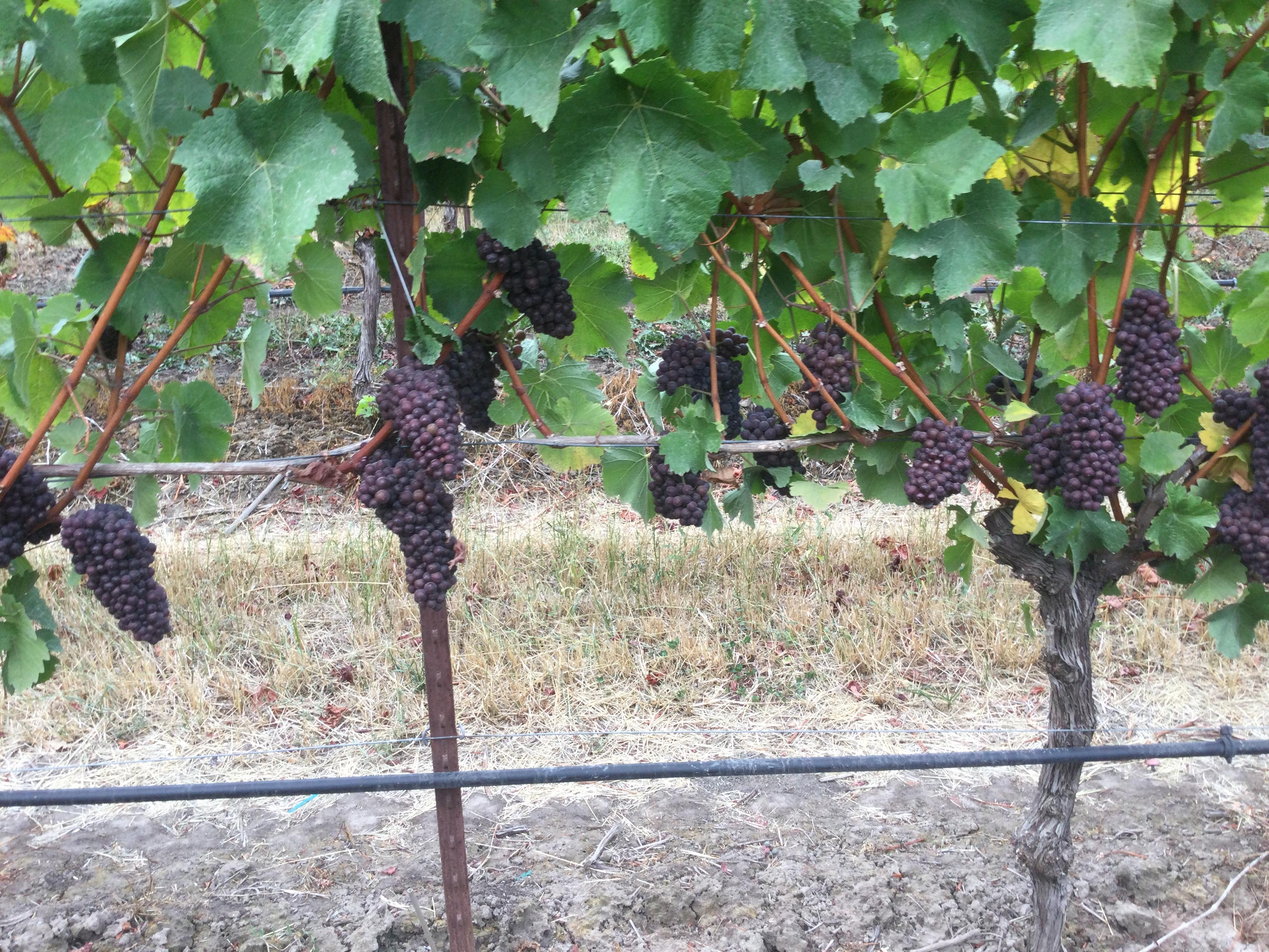leaf: (551, 59, 757, 252), (176, 93, 355, 273), (876, 101, 1003, 230), (469, 0, 592, 128), (890, 179, 1019, 299), (259, 0, 396, 103), (1033, 0, 1175, 86), (1016, 196, 1120, 303), (739, 0, 858, 89), (803, 22, 898, 125), (612, 0, 746, 71), (894, 0, 1031, 69), (554, 244, 632, 360), (37, 84, 117, 187), (380, 0, 489, 67), (405, 72, 482, 161), (75, 0, 152, 83), (116, 17, 169, 136), (1042, 496, 1128, 569), (159, 380, 234, 461), (1205, 62, 1268, 156), (111, 263, 188, 338), (425, 231, 486, 324), (206, 0, 268, 91), (1145, 483, 1219, 558), (473, 168, 540, 247), (0, 595, 52, 693), (501, 114, 558, 200), (728, 117, 789, 195), (659, 400, 722, 474), (1206, 583, 1268, 658), (633, 262, 710, 322), (74, 233, 136, 304), (152, 66, 213, 136), (290, 242, 344, 317), (1225, 254, 1268, 346), (35, 7, 85, 86), (2, 556, 56, 629), (601, 447, 654, 521), (1183, 545, 1247, 603), (27, 190, 87, 245), (1010, 80, 1057, 149), (540, 394, 616, 435), (241, 317, 273, 408), (853, 453, 908, 505), (1140, 430, 1192, 476), (788, 479, 848, 511), (538, 446, 603, 472), (798, 159, 846, 191), (131, 474, 159, 527), (479, 299, 510, 324), (1208, 51, 1225, 79), (11, 0, 24, 10), (160, 249, 170, 257), (833, 149, 844, 154), (859, 144, 862, 147), (848, 149, 855, 150), (587, 17, 590, 19), (41, 183, 42, 187), (0, 14, 2, 16), (516, 245, 518, 246), (609, 34, 610, 35), (1045, 127, 1046, 127), (19, 12, 19, 17)
